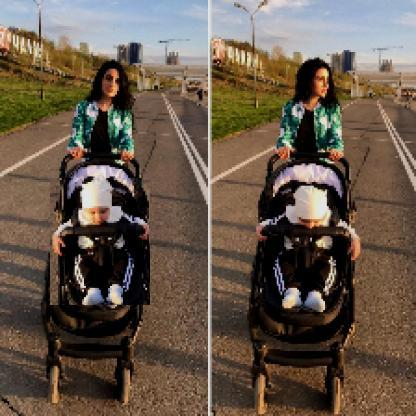child: (257, 186, 363, 314), (51, 180, 152, 308)
